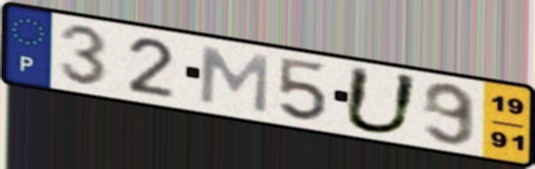2: (125, 35, 179, 100)
3: (57, 23, 112, 89)
5: (276, 55, 329, 123)
9: (421, 81, 478, 148)
M: (196, 43, 272, 117)
U: (339, 63, 423, 136)
